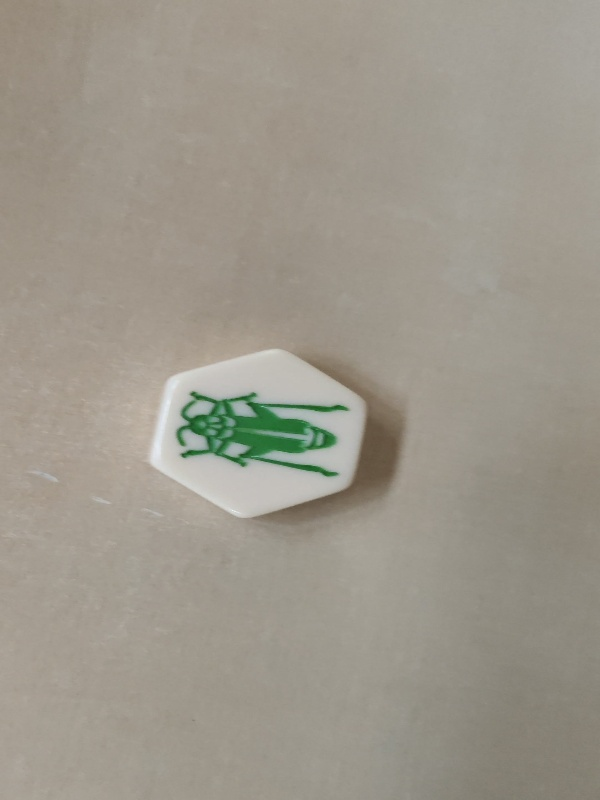white_grasshopper: (150, 348, 379, 509)
